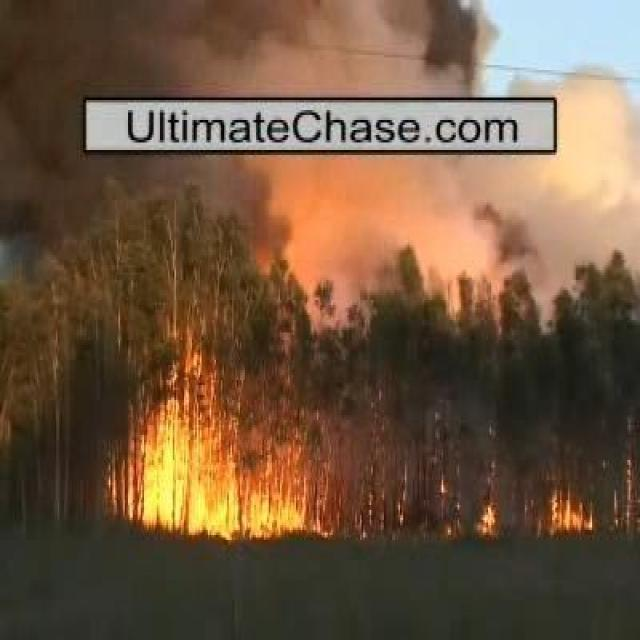Fire: (148, 410, 295, 548)
Smoke: (247, 162, 604, 248)
